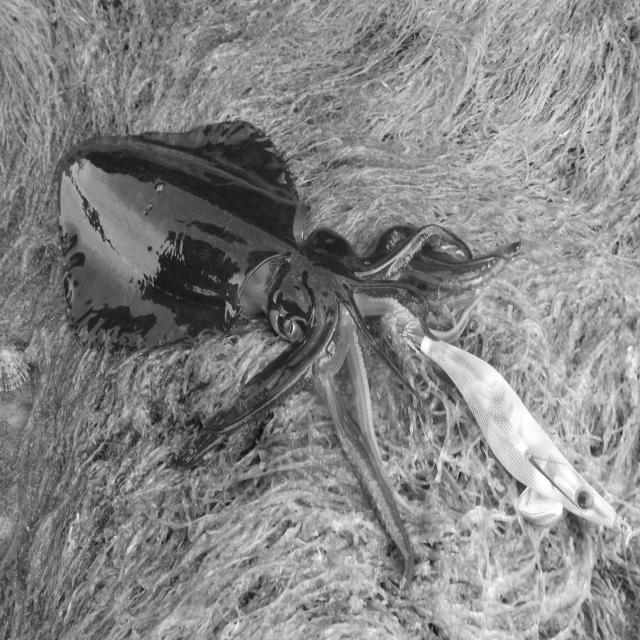SQUID: (44, 84, 506, 459)
